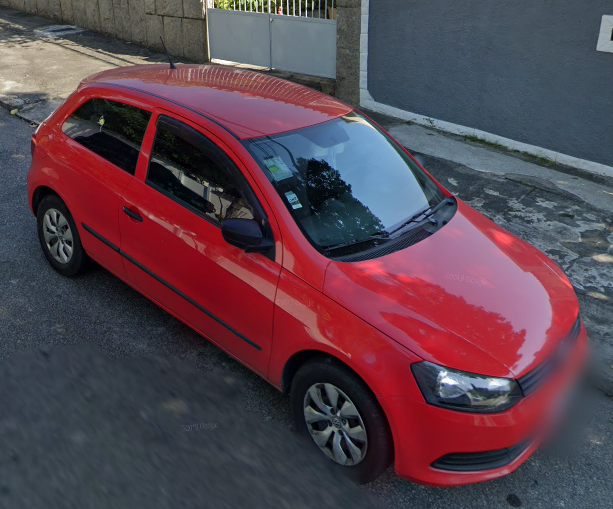car: (28, 61, 591, 491)
